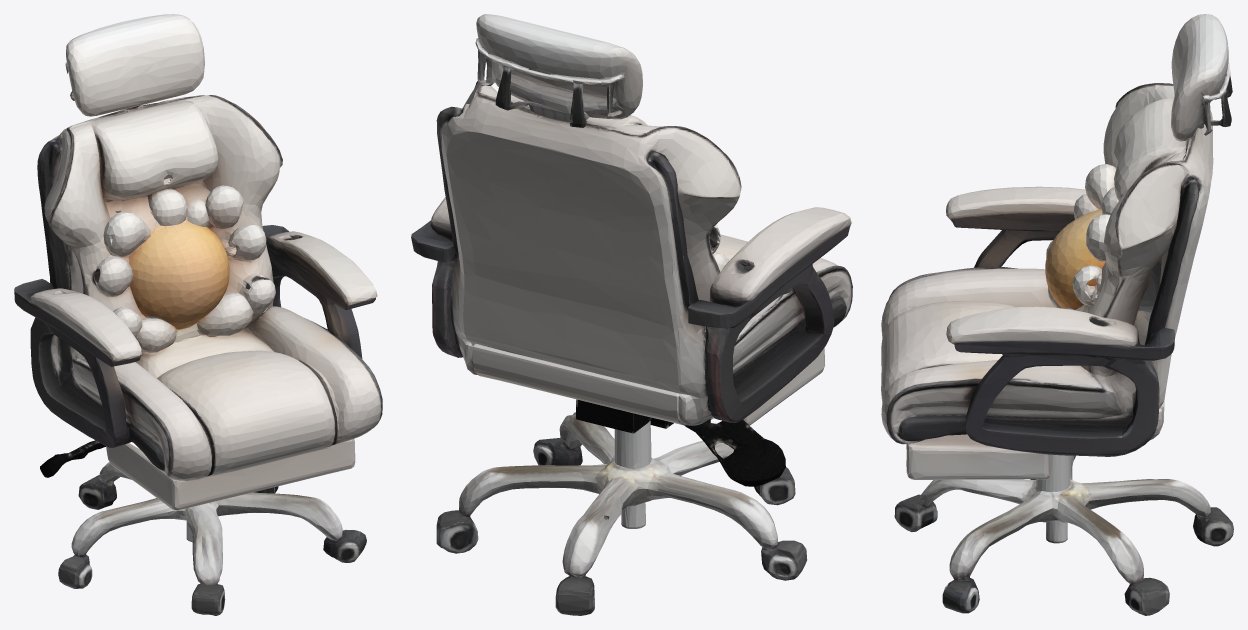
3 views of the same model, side by side, from view 1: azimuth 30°, elevation 25°; view 2: azimuth 150°, elevation 25°; view 3: azimuth 270°, elevation 25° (orthographic). The views are drawn at different scales.
Parts seen in each view (by area): view 1: world; view 2: world; view 3: world.
Boxes of the visible parts, bbox=[...] form: world: bbox=[14, 14, 382, 615]; world: bbox=[411, 14, 852, 615]; world: bbox=[881, 14, 1233, 615].
Bounding box in the file's own units: 0.6061 × 1 × 0.6212.
Materials: 1 (1 with a texture image).
